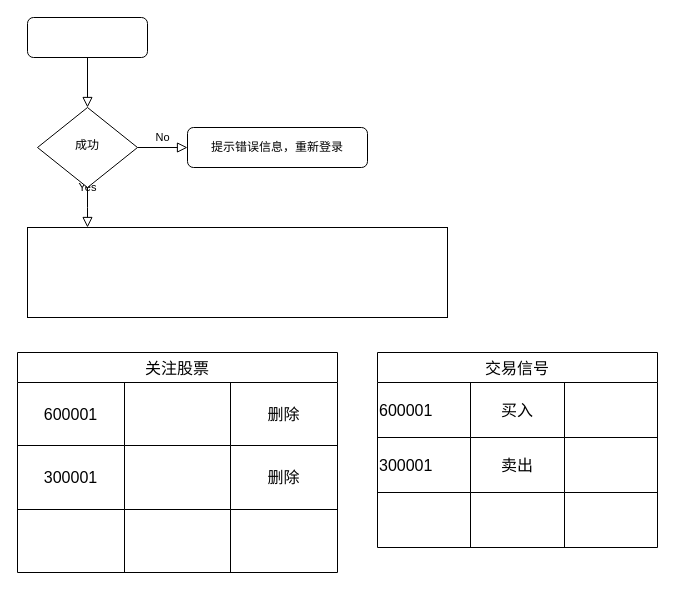
Image size: 675x590. Some labels were removed from this diagram. The box of each missing label's shape, as (x1, y1, x2, y2) in pixels:
用户功能菜单 1关注股票 2关注股票交易信号显示: (26, 226, 448, 318)
用户登录: (26, 16, 148, 58)
